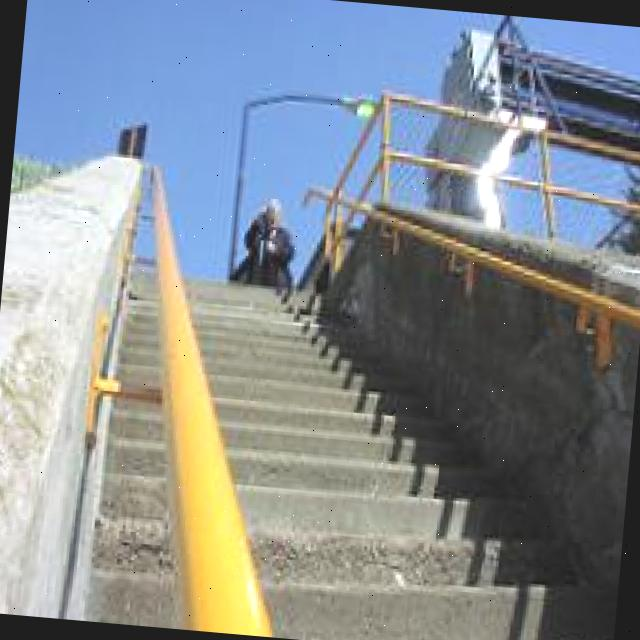stairs: (0, 217, 636, 640)
